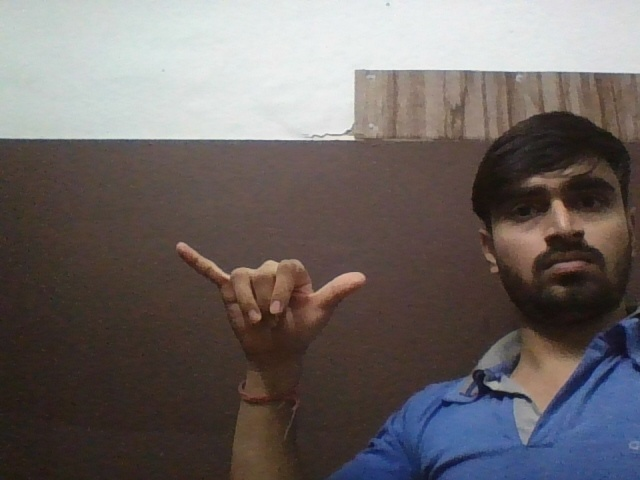Y: (167, 232, 378, 365)
